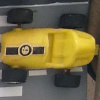amarillo_oeste: (1, 9, 98, 87)
